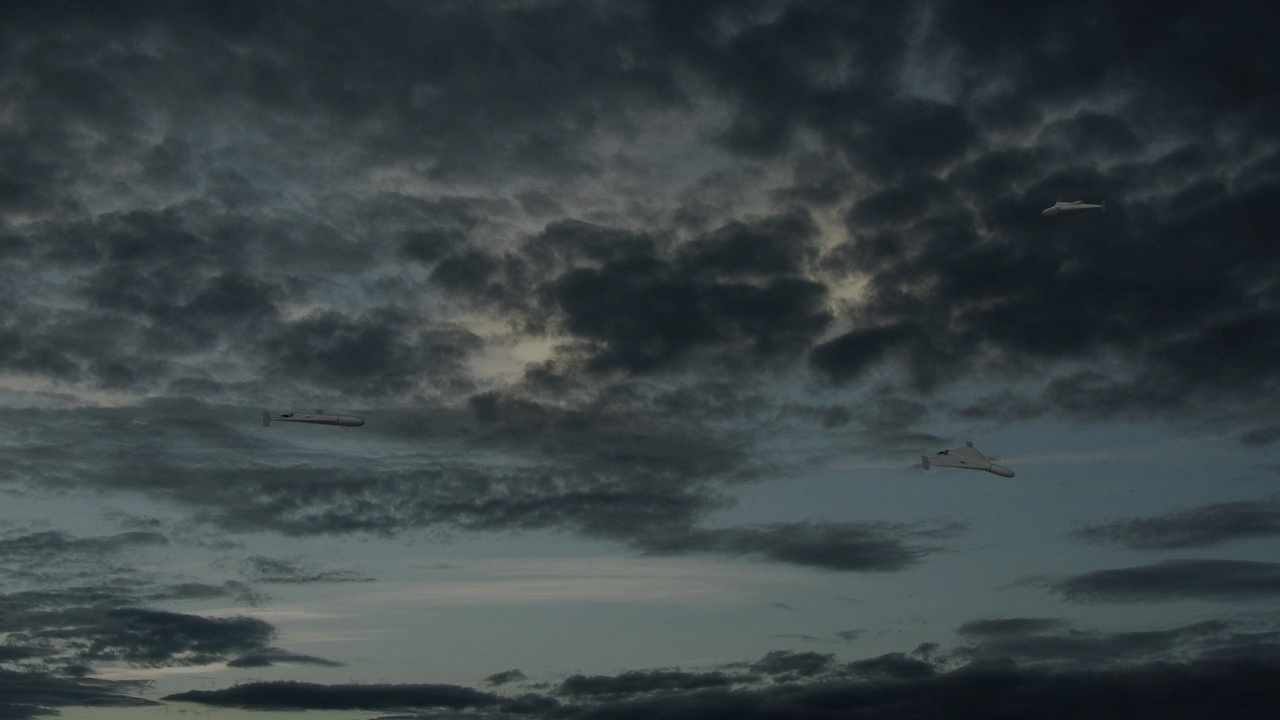shahed: (917, 433, 1018, 483), (256, 401, 369, 433), (1039, 193, 1113, 219)
